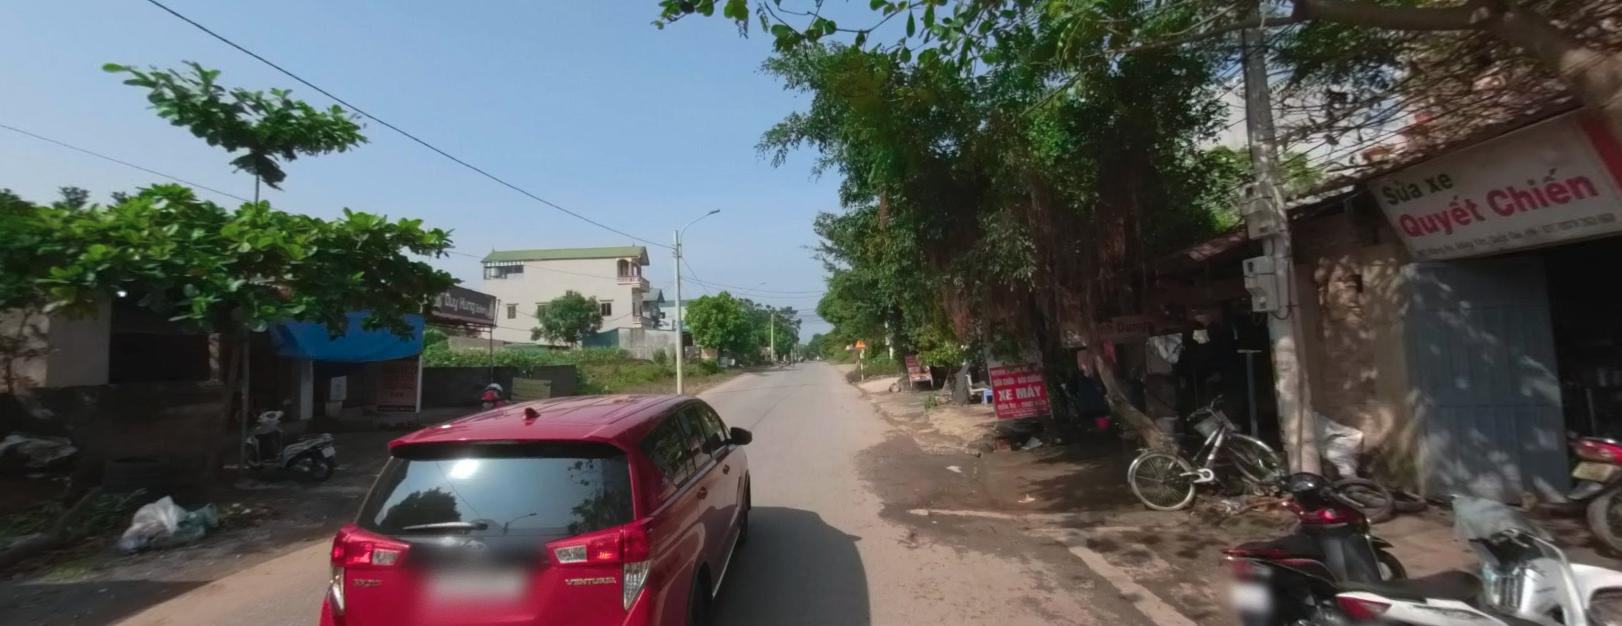Nguy hiem: (854, 334, 866, 345)
